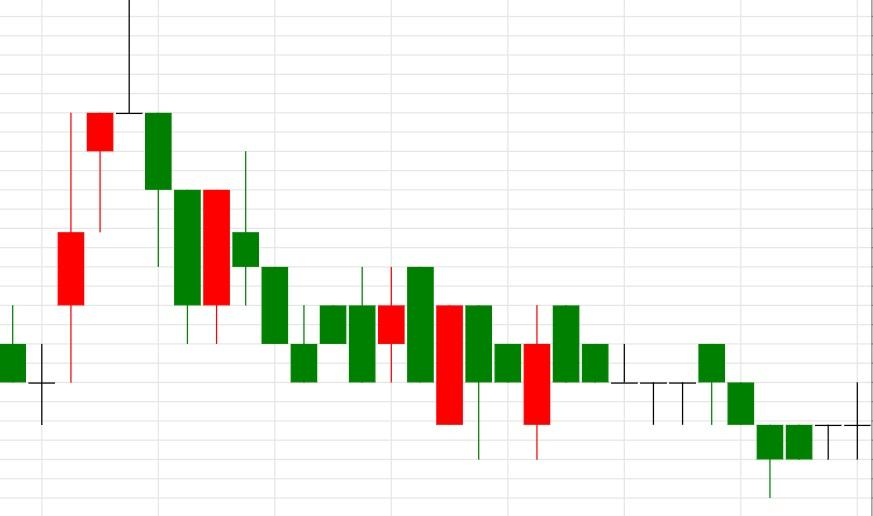evening_star_fall: (0, 0, 172, 425)
